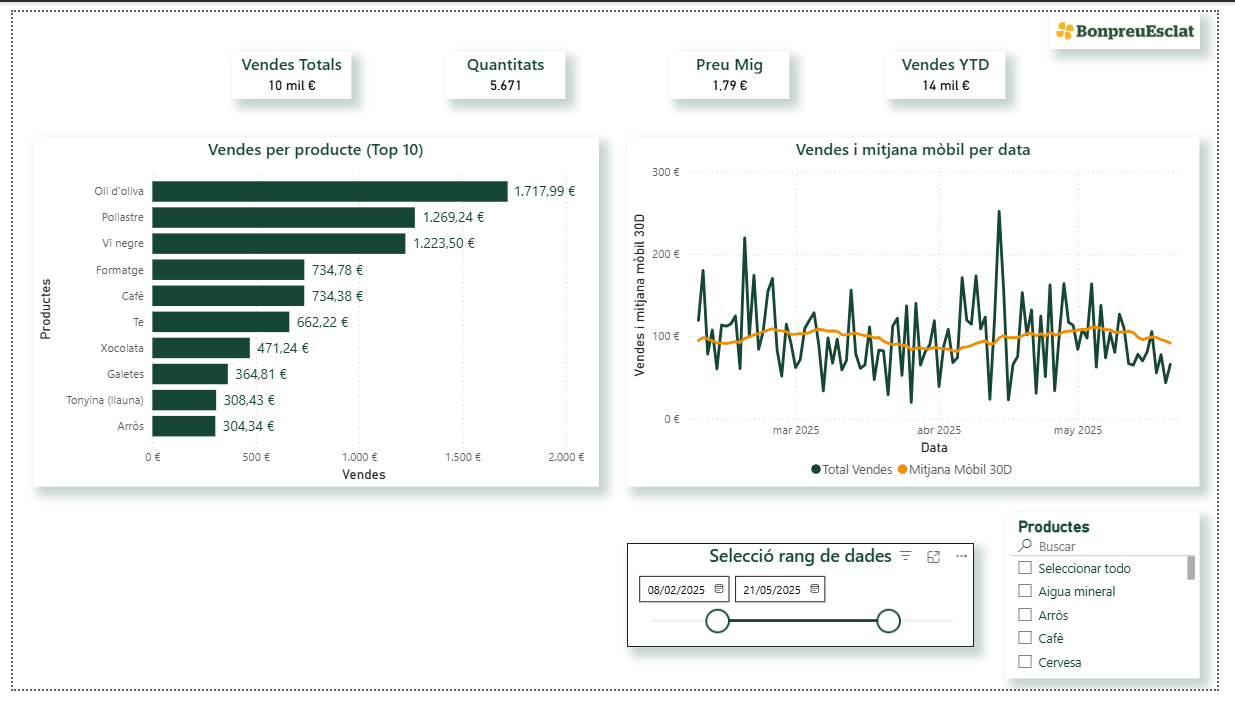

Layout of this report page (visuals, bound fields, positions):
{"tool":"powerbi","page":{"name":"General","canvas":[1280,720],"ordinal":0},"visuals":[{"type":"actionButton","box":[0,0,100,40],"z":1},{"type":"multiRowCard","fields":{"Values":["Sum(sales_staging.quantity)","sales_staging.Avg Price","Sum(sales_staging.total)","sales_staging.Sales YTD"]},"box":[478,40,540,68],"z":2},{"type":"image","box":[50,11,160,39],"z":3},{"type":"clusteredBarChart","fields":{"Category":["sales_staging.product"],"Y":["Sum(sales_staging.total)"]},"box":[589.3,130.4,633.9,303.6],"z":4},{"type":"lineChart","fields":{"Category":["Calendar.Date"],"Y":["sales_staging.Total Sales"]},"box":[260.7,446.4,962.5,242.9],"z":5},{"type":"slicer","fields":{"Values":["sales_staging.product"]},"box":[11,84,184,605],"z":6},{"type":"slicer","fields":{"Values":["Calendar.Data"]},"box":[231,301,290,98],"z":7}]}

Visuals, with their boxes in screenshot pixels (x1, y1, x2, y2), scaled from the page's 1280x720 canvas onto the 1235x709 screenshot:
actionButton: Rect(0, 0, 96, 39)
multiRowCard - Sum(sales_staging.quantity) x sales_staging.Avg Price: Rect(461, 39, 982, 106)
image: Rect(48, 11, 203, 49)
clusteredBarChart - sales_staging.product x Sum(sales_staging.total): Rect(569, 128, 1180, 427)
lineChart - Calendar.Date x sales_staging.Total Sales: Rect(252, 440, 1180, 679)
slicer - sales_staging.product: Rect(11, 83, 188, 678)
slicer - Calendar.Data: Rect(223, 296, 503, 393)
